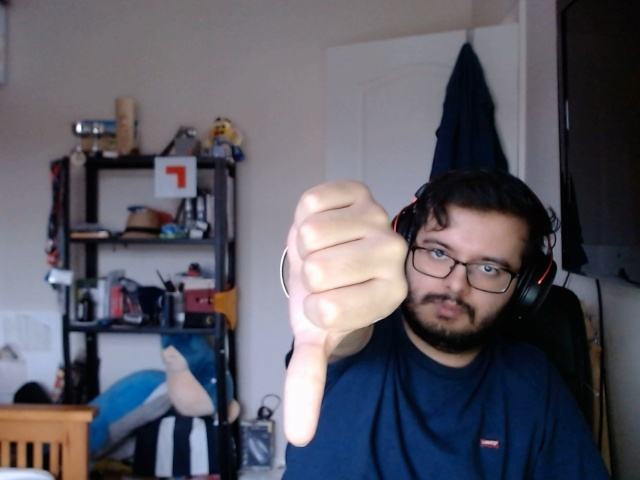Thumbs down: (246, 164, 419, 450)
